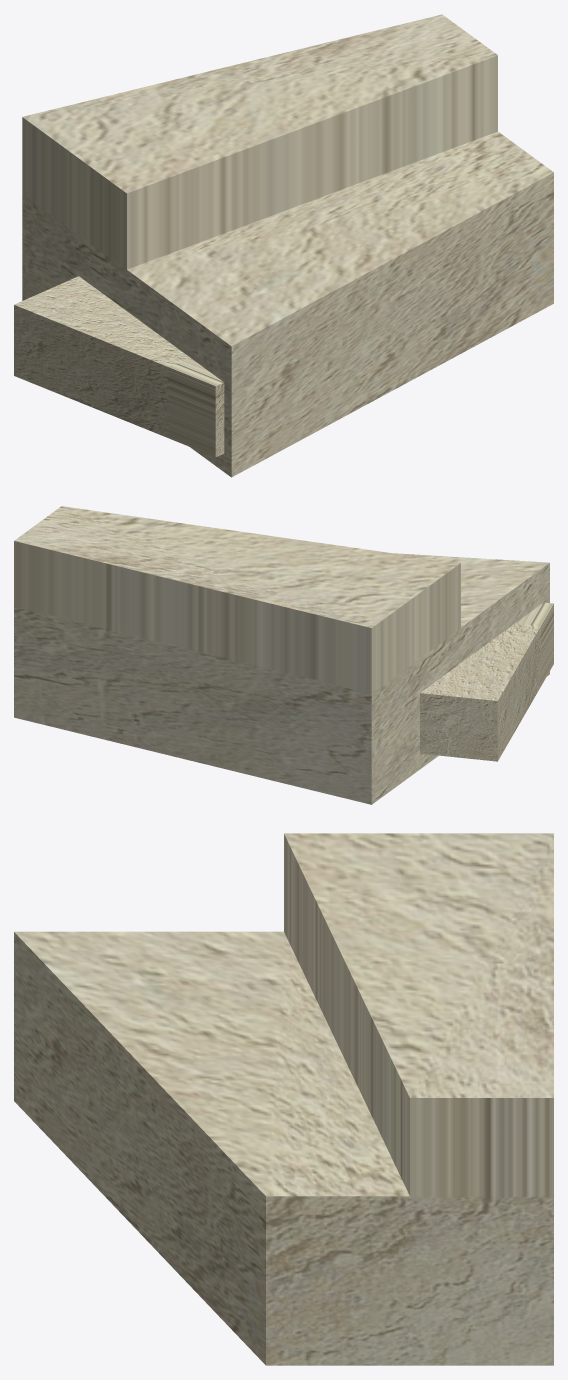
Rendered from MALBA.gltf.
The picture shows the model from 3 angles, top to bottom: view 1: azimuth 30°, elevation 25°; view 2: azimuth 150°, elevation 25°; view 3: azimuth 270°, elevation 25°; orthographic projection. The views are drawn at different scales.
Parts seen in each view (by area): view 1: MALBA; view 2: MALBA; view 3: MALBA.
Part boxes in pixels (x1,y1,x2,y2): MALBA: [14, 14, 553, 477]; MALBA: [14, 506, 553, 804]; MALBA: [14, 833, 553, 1365].
Bounding box in the file's own units: 1.19 × 0.4719 × 0.8631.
1 material, 1 textured.
